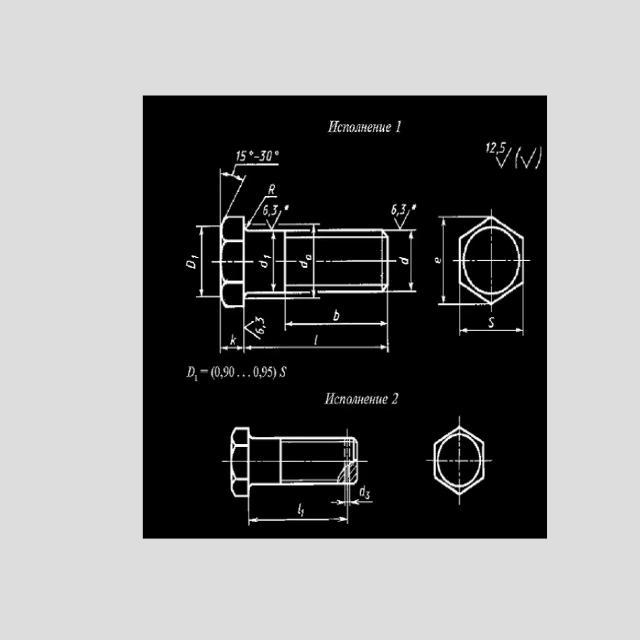marking_line: (244, 343, 385, 351), (286, 319, 386, 327), (441, 219, 449, 303), (251, 516, 346, 523), (311, 225, 317, 298), (332, 498, 375, 506), (408, 233, 414, 290), (199, 229, 204, 297), (461, 328, 521, 333), (271, 231, 276, 291), (221, 345, 243, 351)
numeric: (486, 141, 506, 155), (263, 202, 279, 217), (391, 201, 406, 217), (254, 317, 265, 335), (259, 149, 273, 163), (236, 147, 248, 163), (222, 366, 235, 379), (261, 366, 272, 377), (254, 366, 261, 380), (214, 366, 220, 379)
special_symbol: (495, 154, 507, 170), (522, 149, 532, 168)
